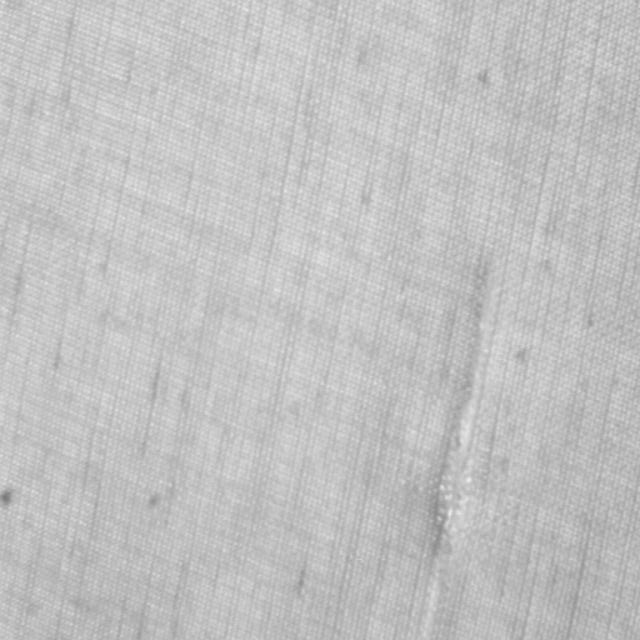thread error: (408, 264, 514, 618)
